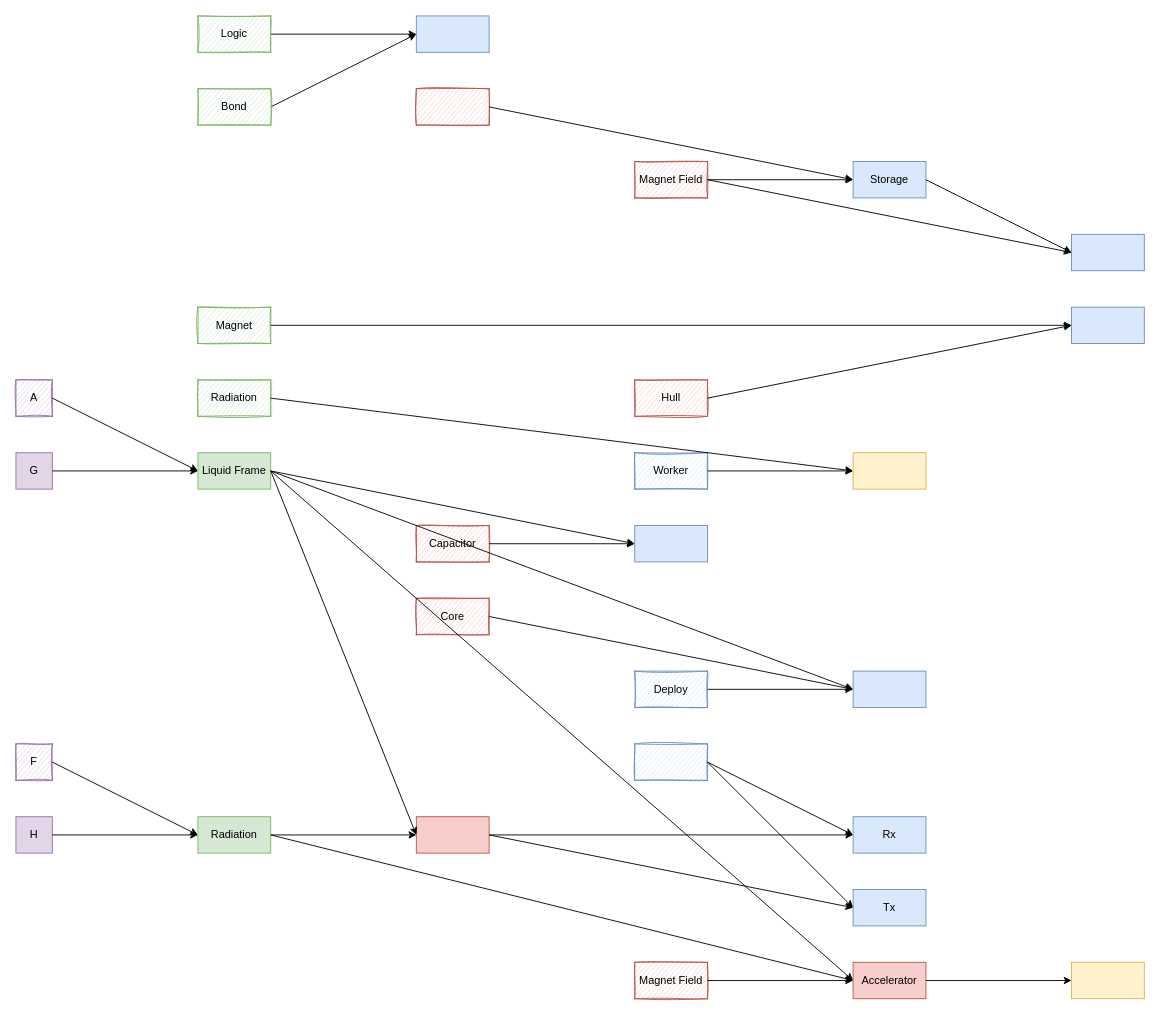
This 1160x1015 diagram has some shape labels left out. Each missing label, with the box of its shape:
Antenna: (415, 816, 489, 853)
Auto-Deploy: (852, 670, 926, 708)
Bullet: (1071, 306, 1144, 344)
Colider: (1071, 961, 1144, 999)
Condenser: (852, 452, 926, 489)
Energy Storage: (634, 525, 708, 562)
Memory: (634, 743, 708, 780)
Port: (1071, 233, 1144, 271)
Robotics: (415, 88, 489, 125)
Solar: (415, 15, 489, 52)
